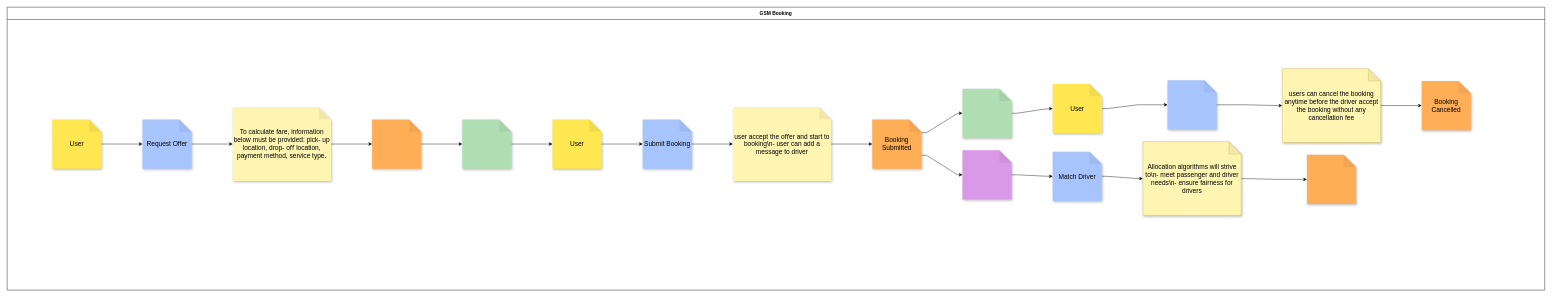
The diagram is 1552 pixels wide and 297 high, and some of its shapes have lost their labels. The centre of each missing label's shape, as x and y in pixels:
Assign Driver Process: pixel 987 175
Booking: pixel 987 114
Cancel Booking: pixel 1192 105
Driver Matched: pixel 1331 180
Offer: pixel 487 144
Offer Sent: pixel 397 144
